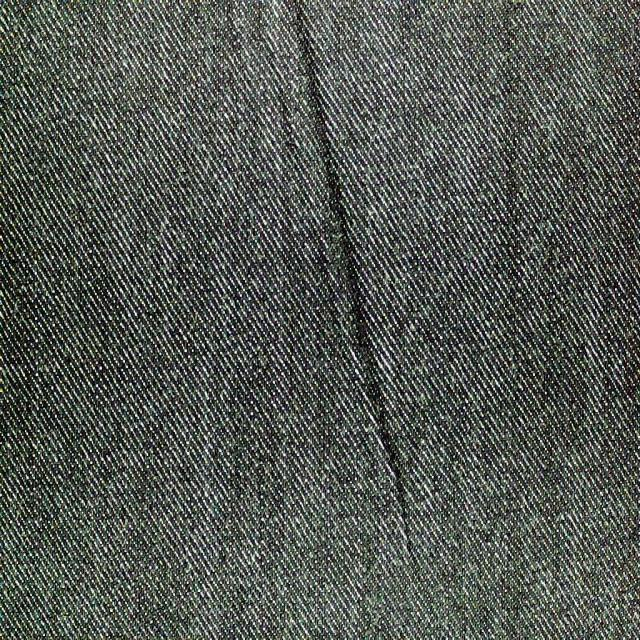Line: (291, 0, 413, 558)
